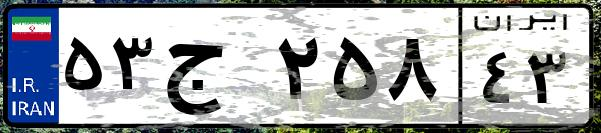2: (270, 28, 330, 110)
3: (525, 38, 570, 115), (110, 28, 158, 98)
4: (475, 38, 525, 113)
5: (330, 28, 385, 110), (57, 26, 110, 100)
8: (385, 28, 445, 110)
ج: (158, 20, 270, 120)
